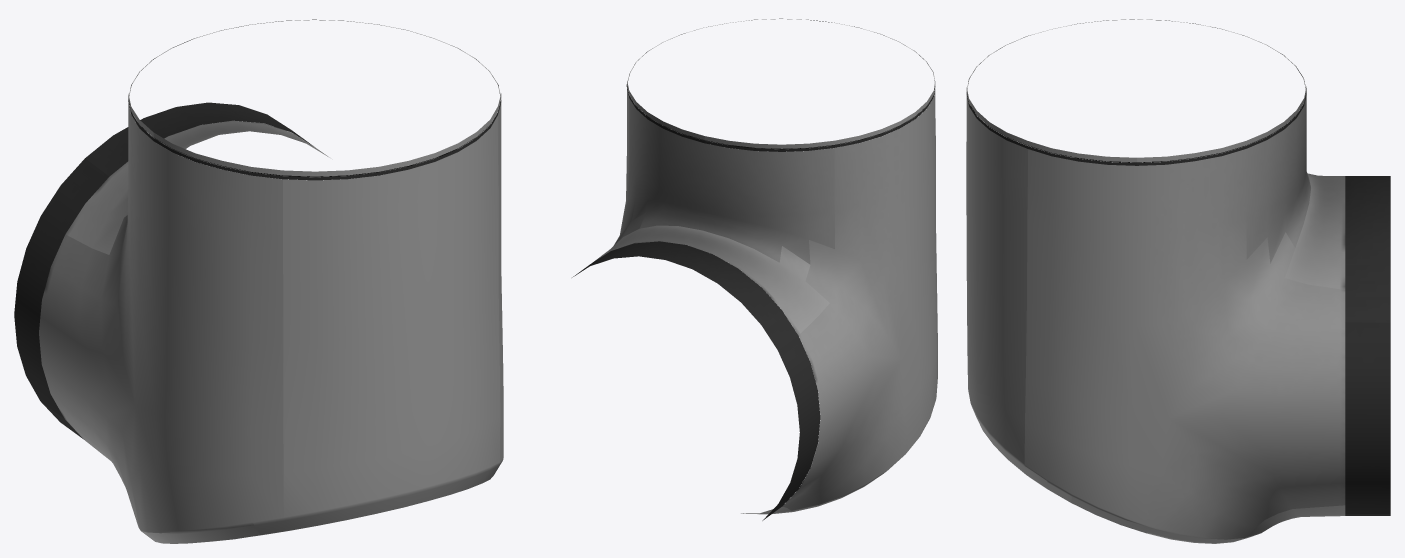
The model's file is wrist_2_link.glb.
3 views of the same model, side by side, from view 1: azimuth 30°, elevation 25°; view 2: azimuth 150°, elevation 25°; view 3: azimuth 270°, elevation 25° (orthographic). The views are drawn at different scales.
Parts seen in each view (by area): view 1: wrist-2-mesh_005, wrist-2-mesh; view 2: wrist-2-mesh_005, wrist-2-mesh; view 3: wrist-2-mesh_005, wrist-2-mesh.
Part boxes in pixels (<box>): wrist-2-mesh_005: <box>39,19,503,543</box>; wrist-2-mesh: <box>14,99,501,439</box>; wrist-2-mesh_005: <box>593,18,937,514</box>; wrist-2-mesh: <box>572,84,935,520</box>; wrist-2-mesh_005: <box>966,19,1345,543</box>; wrist-2-mesh: <box>966,92,1390,515</box>.
Size of the model in its own units: 0.1006 by 0.1382 by 0.1247.
1 material, 1 textured.
